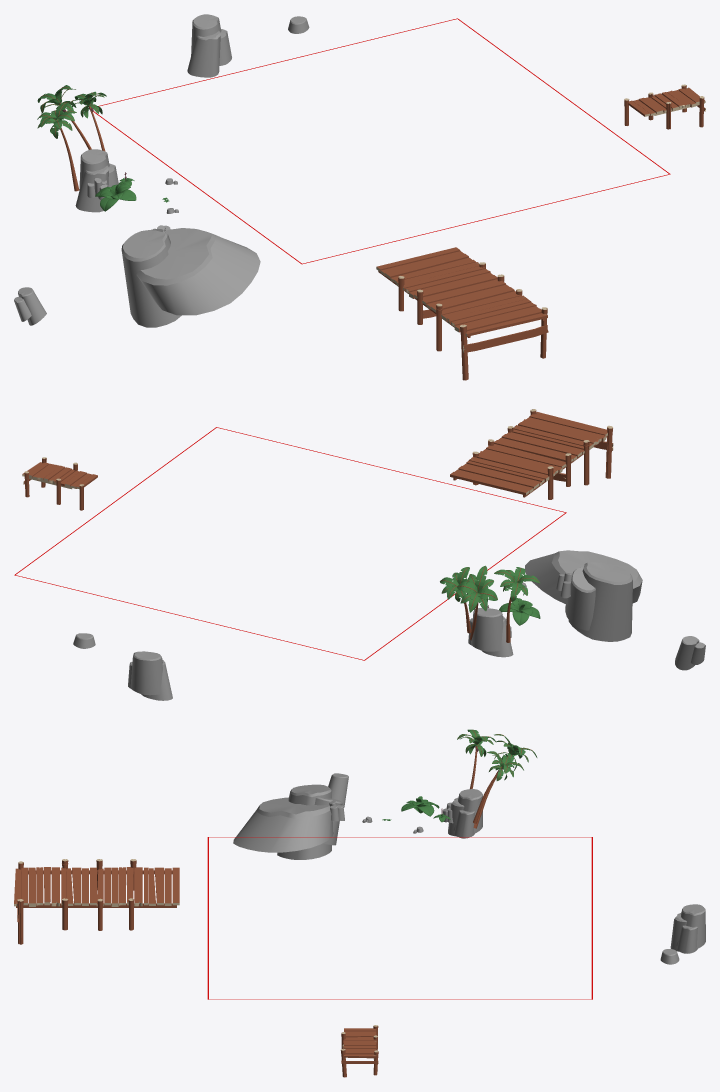
Rendered from jetty.fbx.
3 views of the same model, one above another, from view 1: azimuth 30°, elevation 25°; view 2: azimuth 150°, elevation 25°; view 3: azimuth 270°, elevation 25° (orthographic). The views are drawn at different scales.
Visible parts, largest first — view 1: jetty; view 2: jetty; view 3: jetty.
Part boxes in pixels (box(x1,y1,x2,y2)): jetty: box(14, 14, 705, 380); jetty: box(14, 409, 705, 700); jetty: box(14, 729, 705, 1077).
Size of the model in its own units: 5391 by 1077 by 5137.
1 material, 1 textured.
